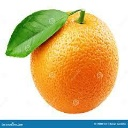orange: (26, 8, 121, 113)
